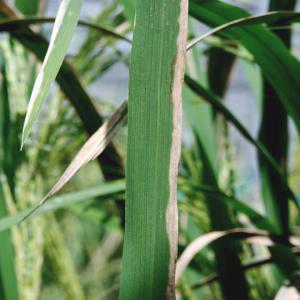2 BacterialBlight: (125, 1, 183, 300), (18, 44, 56, 149)
